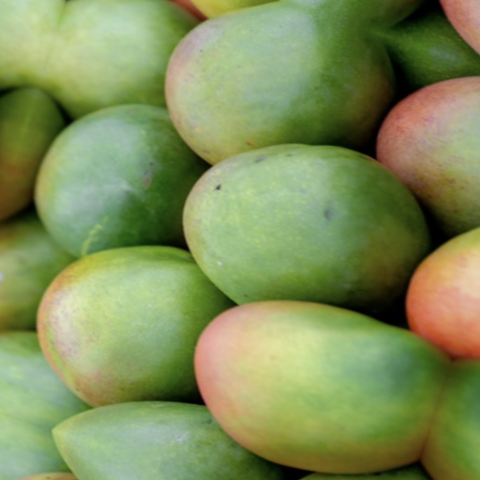mango: (149, 92, 450, 371), (160, 248, 459, 480), (123, 0, 431, 220), (0, 60, 223, 297)
